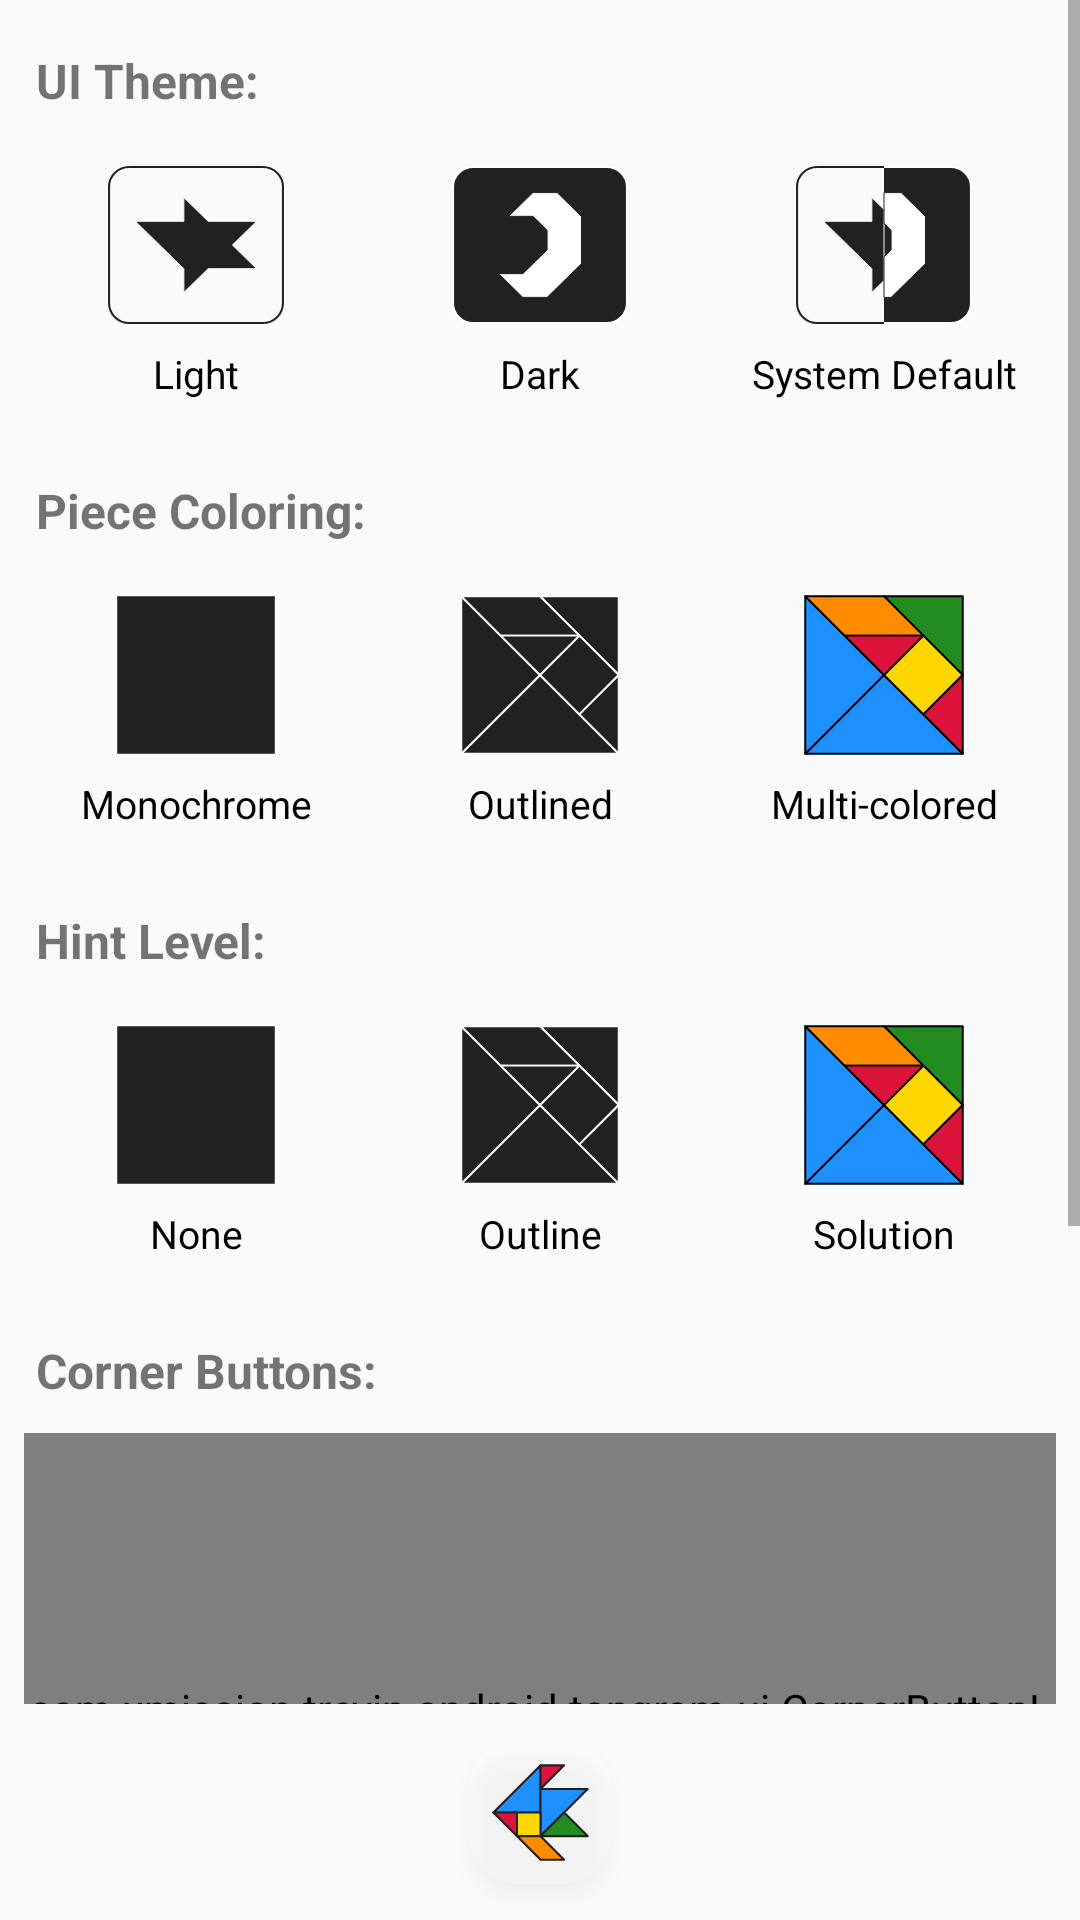

Named icons in this screenshot (1080*1920) and their bounding boxes, detection(x1, y1, x2, y2):
Back to main menu: detection(492, 1764, 589, 1861)
